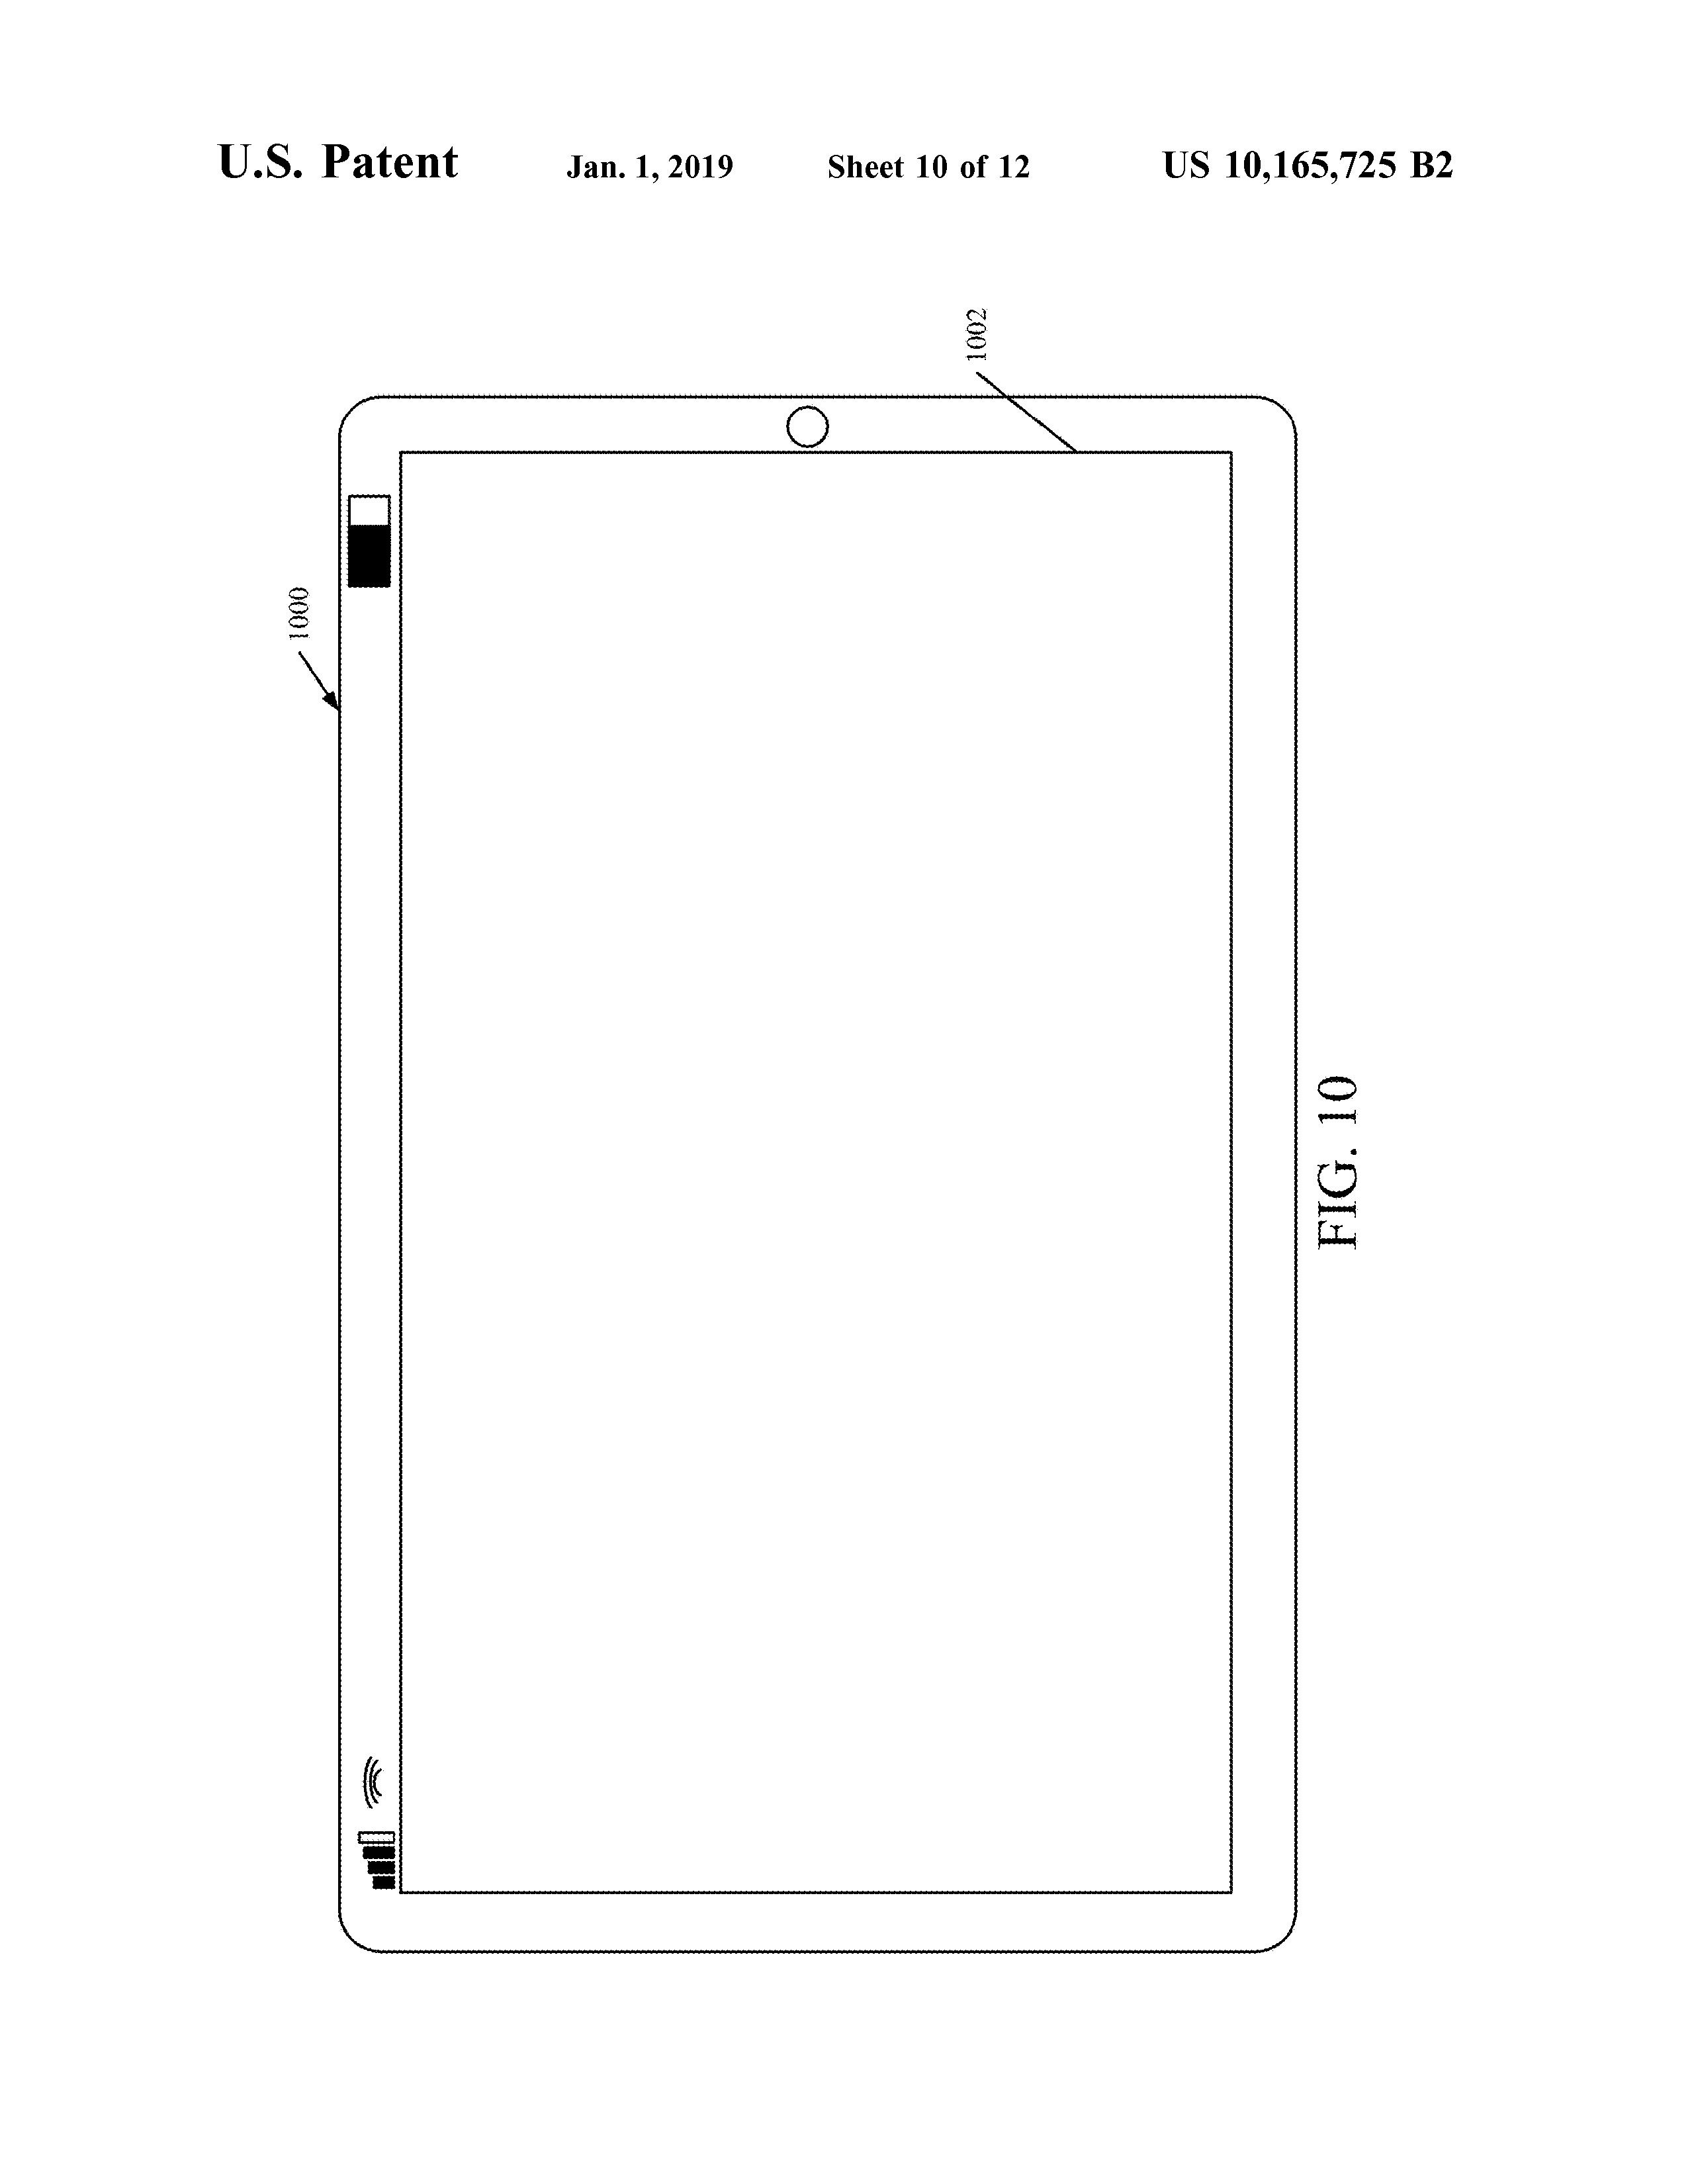patent image: (270, 296, 1383, 1982)
